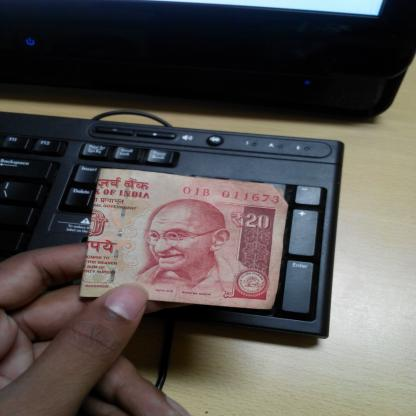Old20Front: (89, 172, 281, 307)
